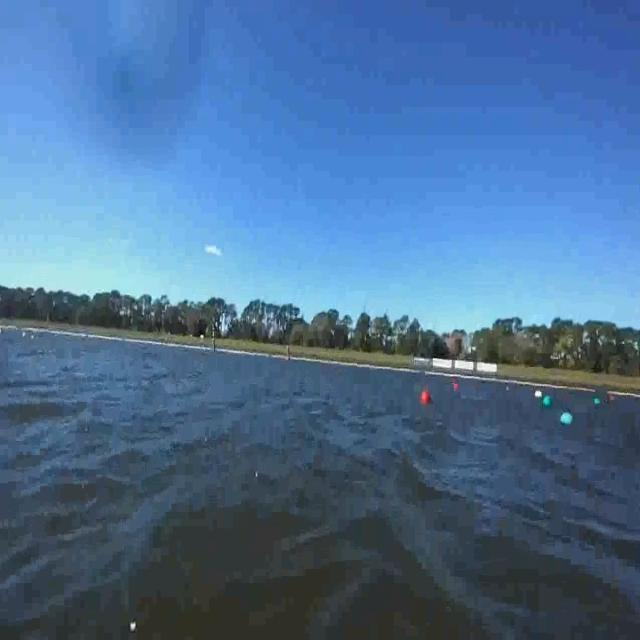green-buoy: (560, 412, 573, 427), (592, 394, 603, 409), (544, 397, 555, 411), (542, 395, 551, 407)
red-buoy: (421, 390, 432, 406), (452, 380, 461, 395)
